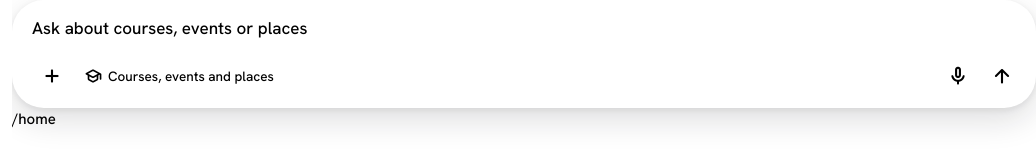
it: home: Upload documents starts a chat with the upload panel open
Click the button named "Add documents or skills".
click(52, 76)  # box 32,56 -> 72,96
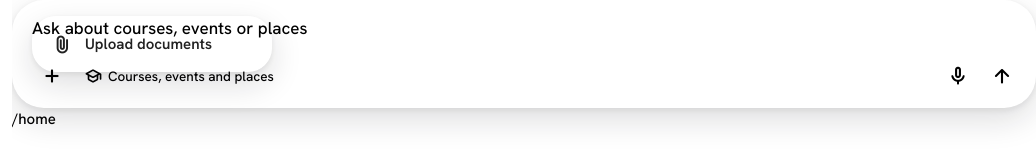
Click the menu item "Upload documents".
click(152, 44)  # box 38,22 -> 266,66
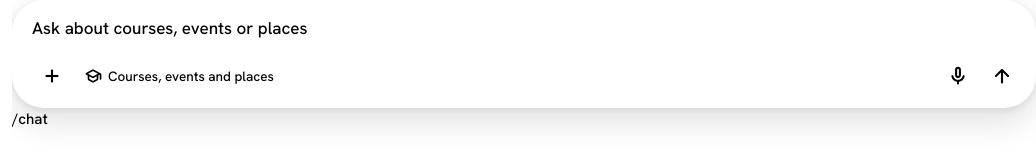
Now the text named "Location" reads "/chat", box 12,109 -> 48,129
